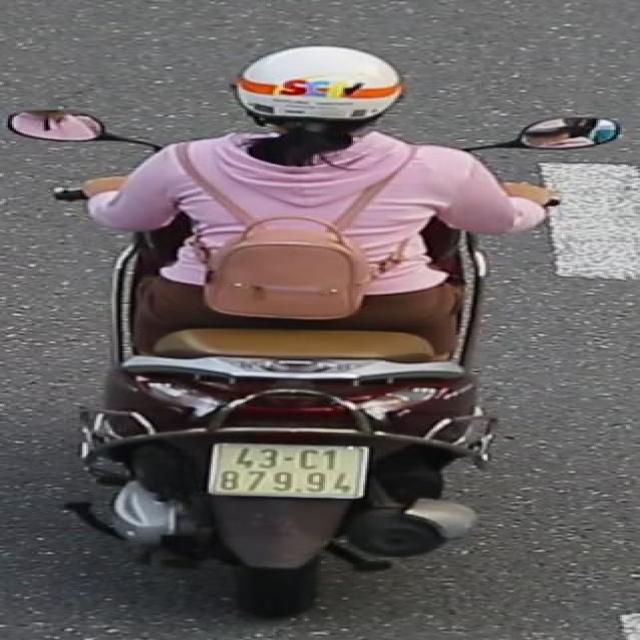LP: (205, 441, 381, 505)
helmet: (233, 39, 411, 142)
